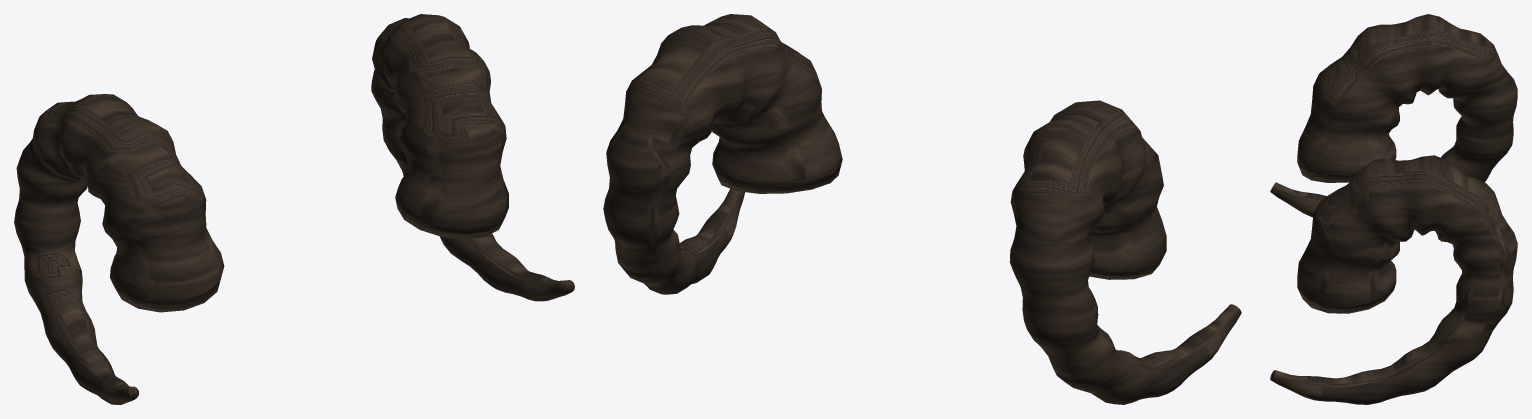
Rendered from 悪魔の巻き角_ramhorns.glb.
3 renders of one model, left to right at view 1: azimuth 30°, elevation 25°; view 2: azimuth 150°, elevation 25°; view 3: azimuth 270°, elevation 25°, orthographic. The views are drawn at different scales.
Visible parts, largest first — view 1: ramhorns; view 2: ramhorns; view 3: ramhorns.
Part boxes in pixels (x1,y1,x2,y2): ramhorns: (14, 14, 574, 404); ramhorns: (603, 14, 1241, 404); ramhorns: (1270, 14, 1517, 404).
Bounding box in the file's own units: 0.1742 × 0.0955 × 0.0945.
Materials: 1 (1 with a texture image).
